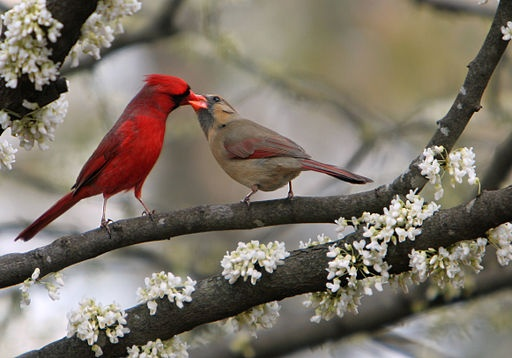bird: (9, 70, 200, 243), (189, 86, 379, 208)
